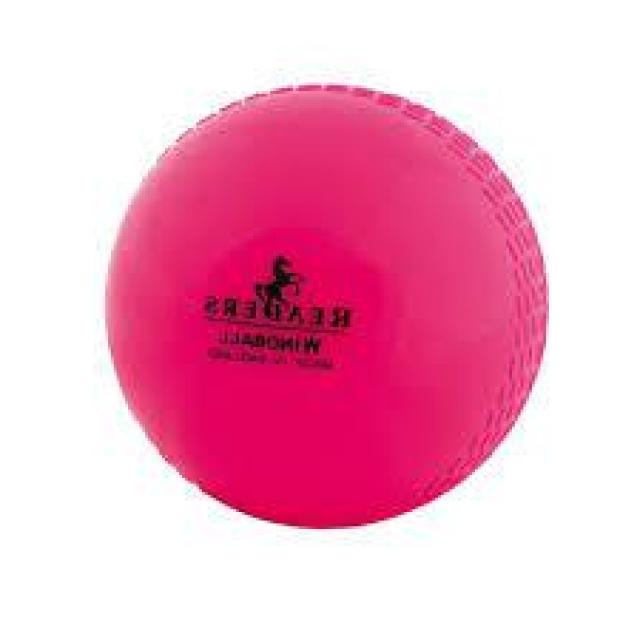ball: (105, 85, 546, 529)
